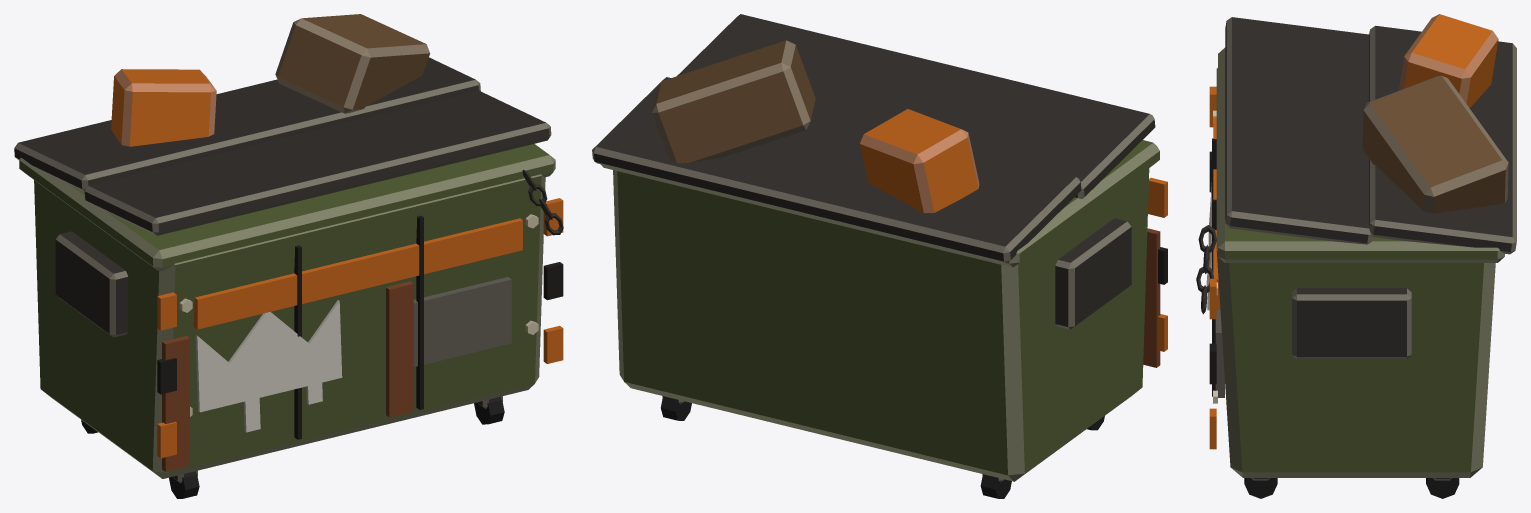
Rendered from c_dumpster.glb.
The picture shows the model from 3 angles, left to right: view 1: azimuth 30°, elevation 25°; view 2: azimuth 150°, elevation 25°; view 3: azimuth 270°, elevation 25°; orthographic projection. The views are drawn at different scales.
Parts seen in each view (by area): view 1: c_dumpster; view 2: c_dumpster; view 3: c_dumpster.
Part boxes in pixels (x1,y1,x2,y2): c_dumpster: (14,14,563,498); c_dumpster: (592,14,1167,498); c_dumpster: (1196,14,1516,498).
Bounding box in the file's own units: 2.06 × 1.71 × 1.34.
